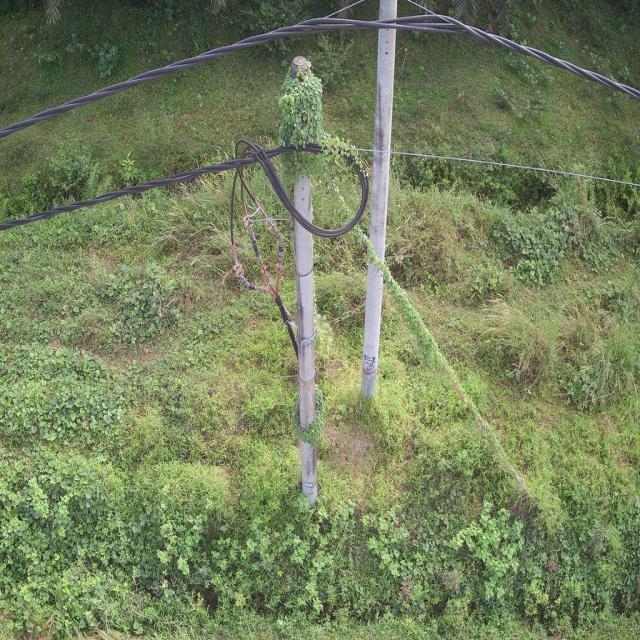light_pole: (262, 54, 558, 506)
